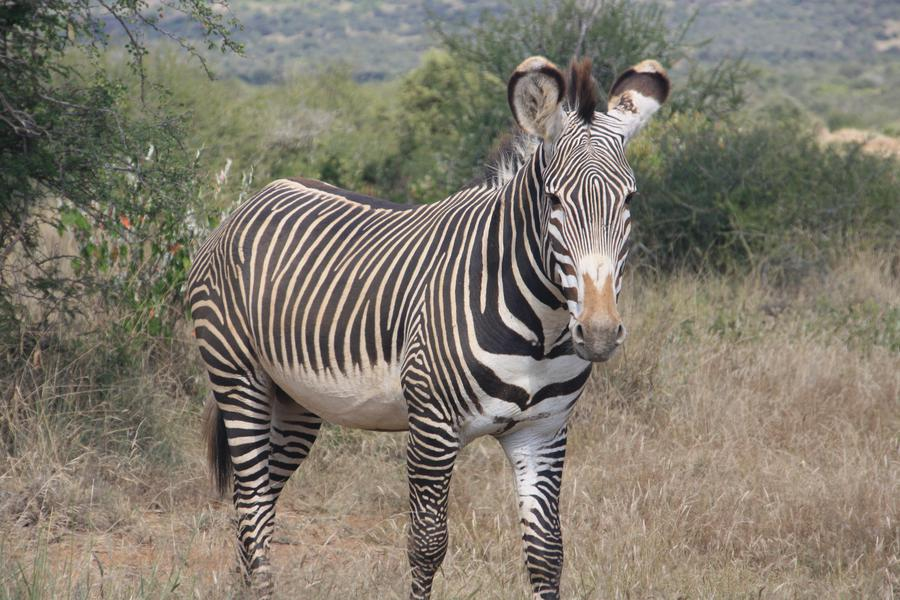zebra_grevys: (170, 172, 511, 395)
